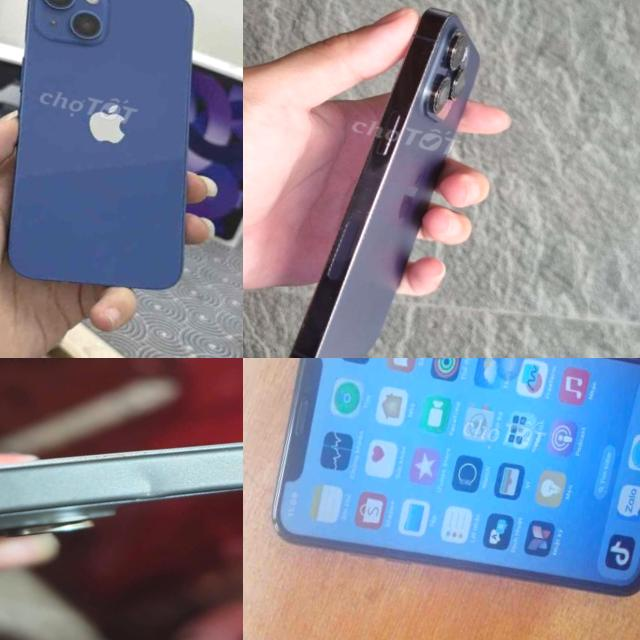gen_12_13: (0, 0, 243, 319)
gen_14: (263, 0, 497, 358)
gen_15: (0, 358, 243, 640)
gen_x_xs: (243, 358, 640, 636)
physical_damage: (124, 454, 168, 502)
